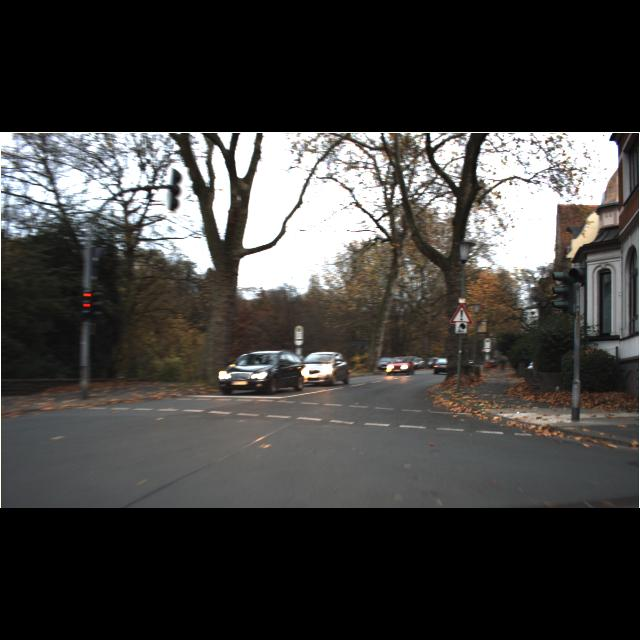danger: (449, 303, 473, 325)
